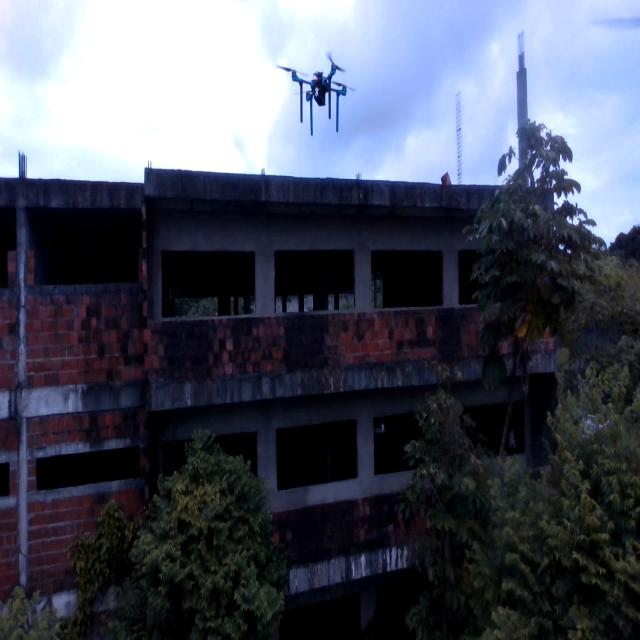-uav-: (271, 46, 368, 153)
